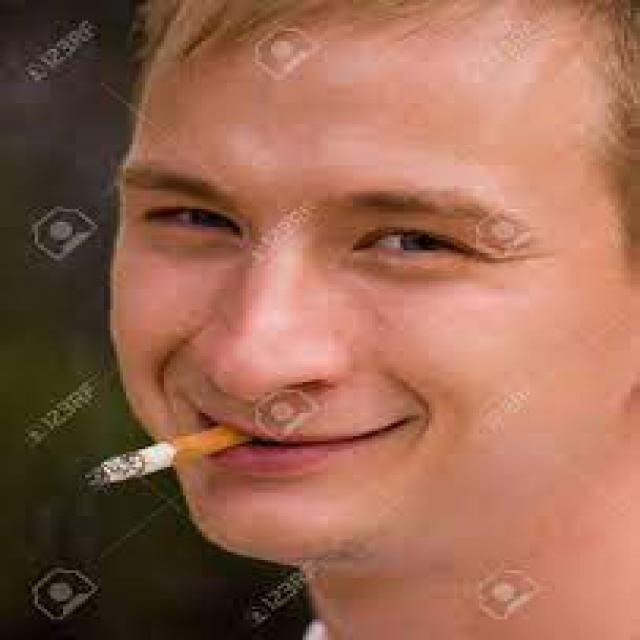smoking: (73, 417, 253, 487)
